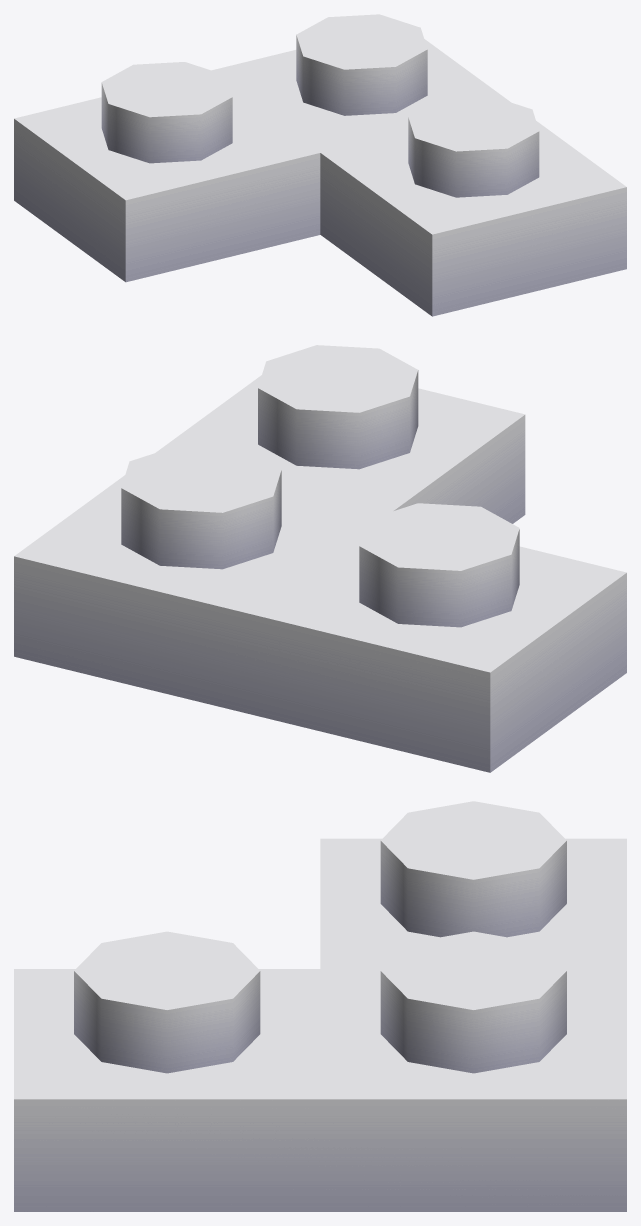
The model's file is brick-kit--round-lq-plate-corner.glb.
3 views of the same model, one above another, from view 1: azimuth 30°, elevation 25°; view 2: azimuth 150°, elevation 25°; view 3: azimuth 270°, elevation 25° (orthographic). The views are drawn at different scales.
Parts seen in each view (by area): view 1: round-lq-plate-corner; view 2: round-lq-plate-corner; view 3: round-lq-plate-corner.
Boxes of the visible parts, x1,y1,x2,y2 form: round-lq-plate-corner: (14, 14, 626, 316); round-lq-plate-corner: (14, 345, 626, 772); round-lq-plate-corner: (14, 801, 626, 1211).
Size of the model in its own units: 0.159 by 0.05 by 0.158.
Materials: 1 (1 with a texture image).
